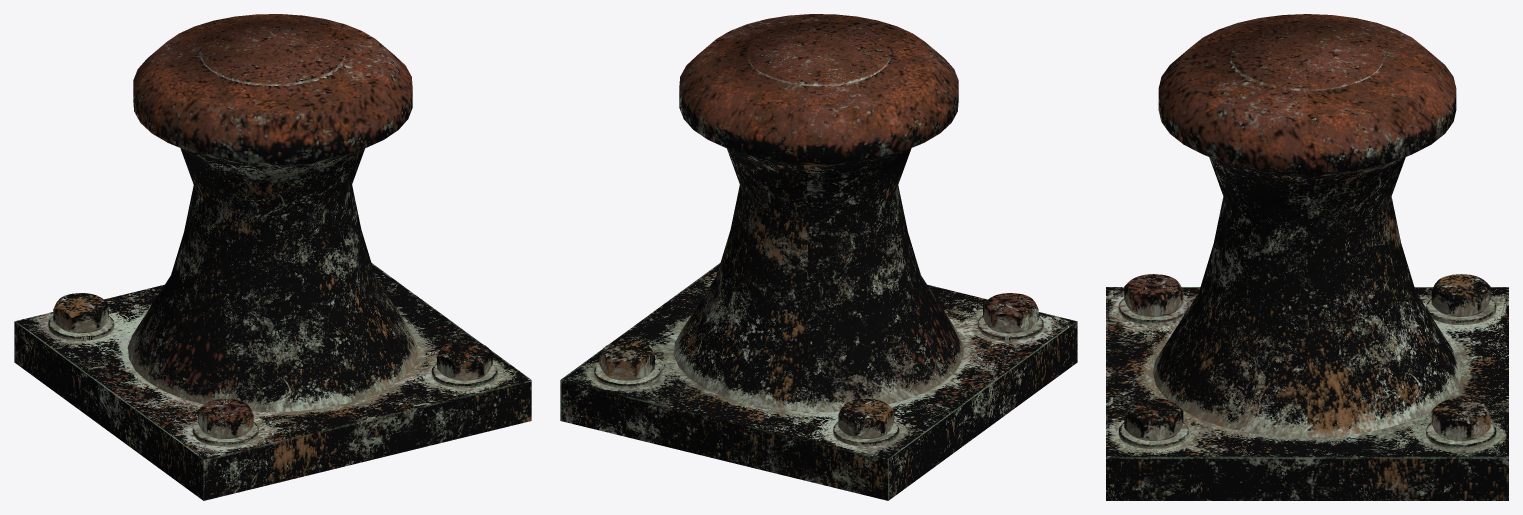
3 renders of one model, left to right at view 1: azimuth 30°, elevation 25°; view 2: azimuth 150°, elevation 25°; view 3: azimuth 270°, elevation 25°, orthographic. The views are drawn at different scales.
Parts seen in each view (by area): view 1: Nut; view 2: Nut; view 3: Nut.
Boxes of the visible parts, x1,y1,x2,y2 form: Nut: (14, 14, 531, 500); Nut: (560, 14, 1077, 500); Nut: (1106, 14, 1508, 500).
Size of the model in its own units: 200 by 200 by 200.
1 material, 1 textured.
